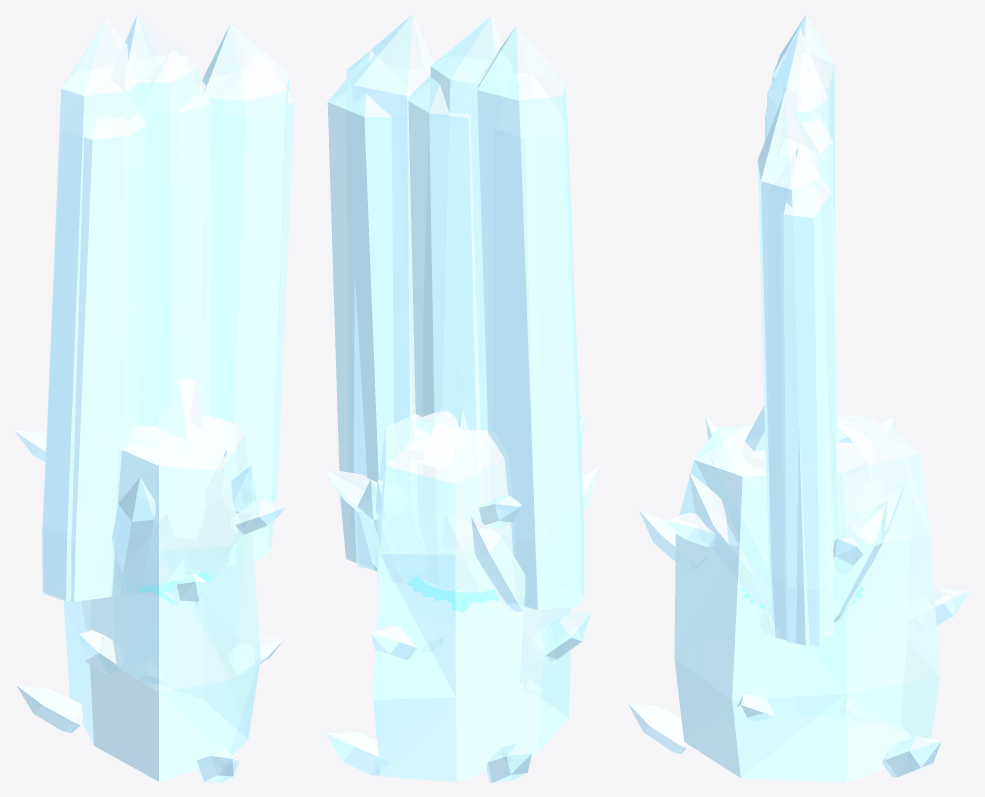
The model's file is IceVFX.fbx.
The picture shows the model from 3 angles, left to right: view 1: azimuth 30°, elevation 25°; view 2: azimuth 150°, elevation 25°; view 3: azimuth 270°, elevation 25°; orthographic projection. The views are drawn at different scales.
Parts seen in each view (by area): view 1: SlabA, SlabB, Shell; view 2: SlabB, SlabA, Shell, Ring_Energy; view 3: Shell, SlabB, SlabA.
Part boxes in pixels (left/top/right/bottom): SlabA: left=42, top=14, right=289, bottom=601; SlabB: left=43, top=19, right=294, bottom=601; Shell: left=14, top=378, right=285, bottom=782; SlabB: left=327, top=26, right=585, bottom=610; SlabA: left=346, top=14, right=580, bottom=611; Shell: left=323, top=401, right=598, bottom=782; Ring_Energy: left=407, top=577, right=498, bottom=603; Shell: left=627, top=405, right=970, bottom=782; SlabB: left=705, top=14, right=887, bottom=646; SlabA: left=689, top=27, right=904, bottom=645.
Size of the model in its own units: 4.6 by 12.98 by 5.63.
